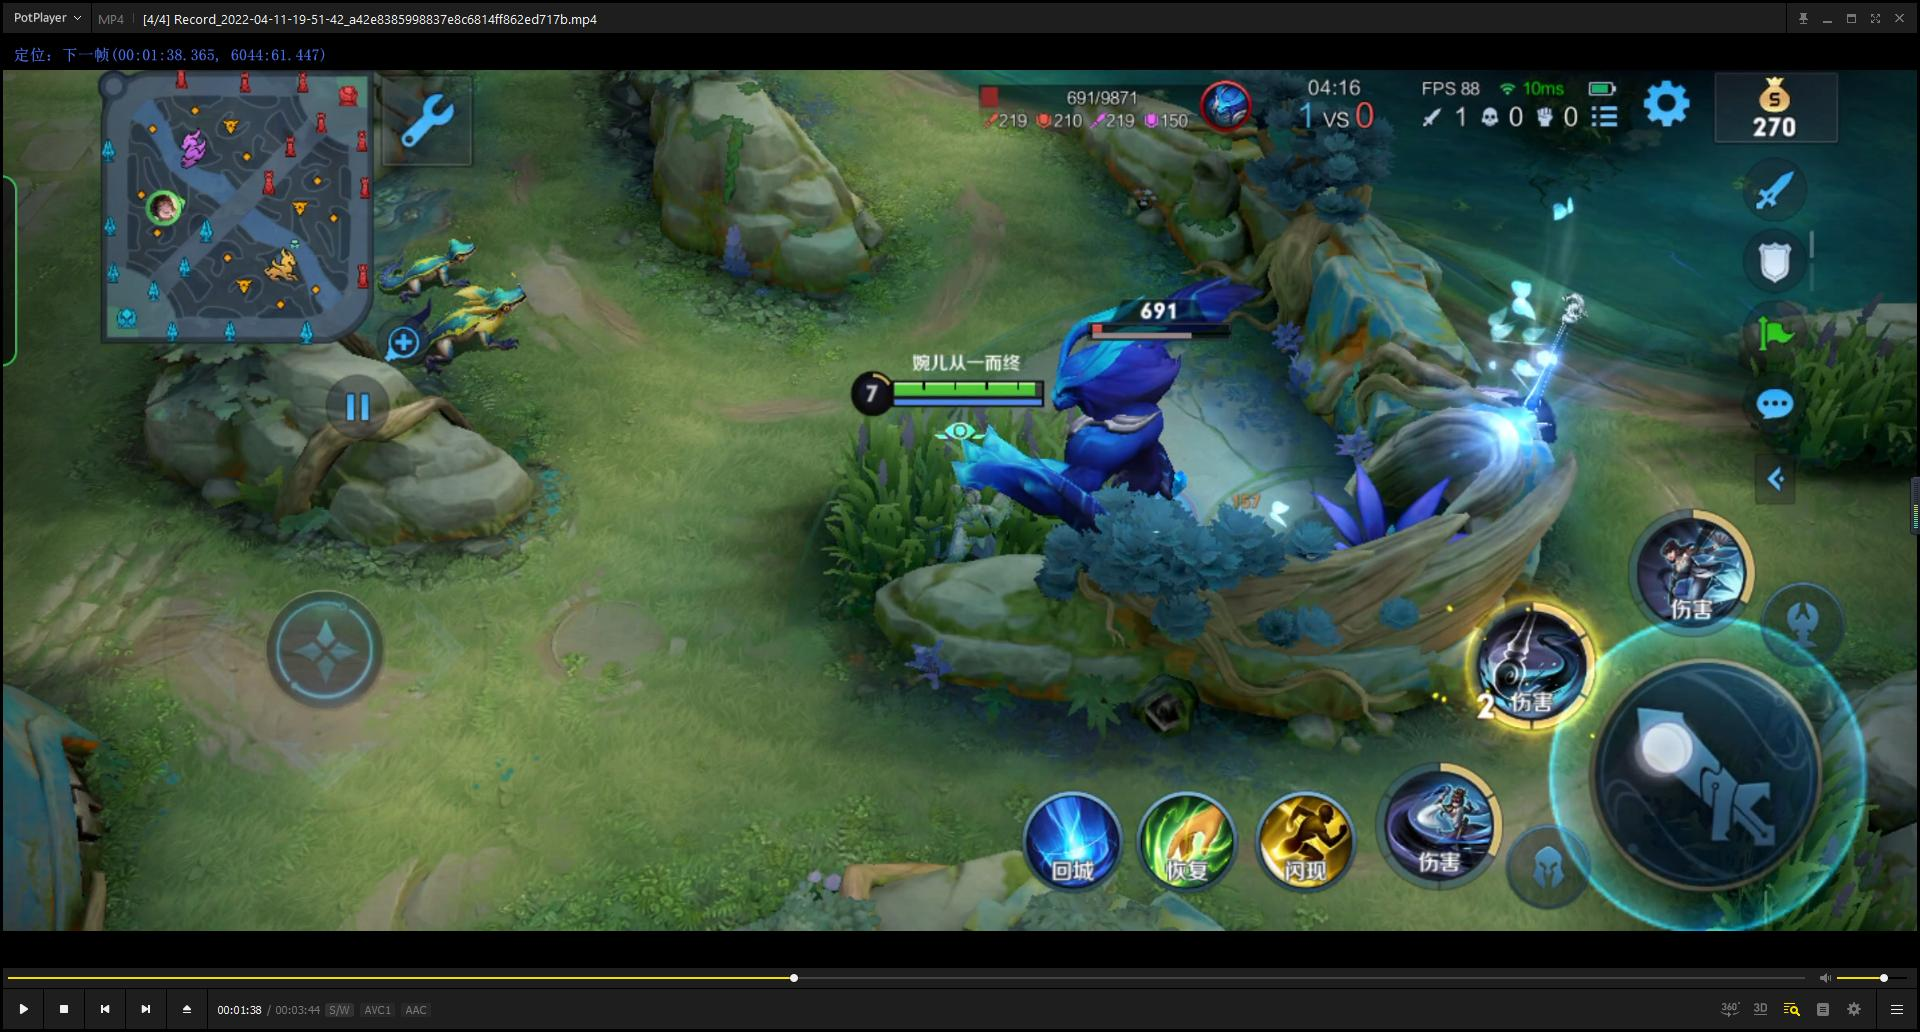Buff: (920, 272, 1276, 568)
Hero: (856, 441, 1053, 600)
Lizard: (376, 277, 537, 386), (388, 231, 504, 314)
